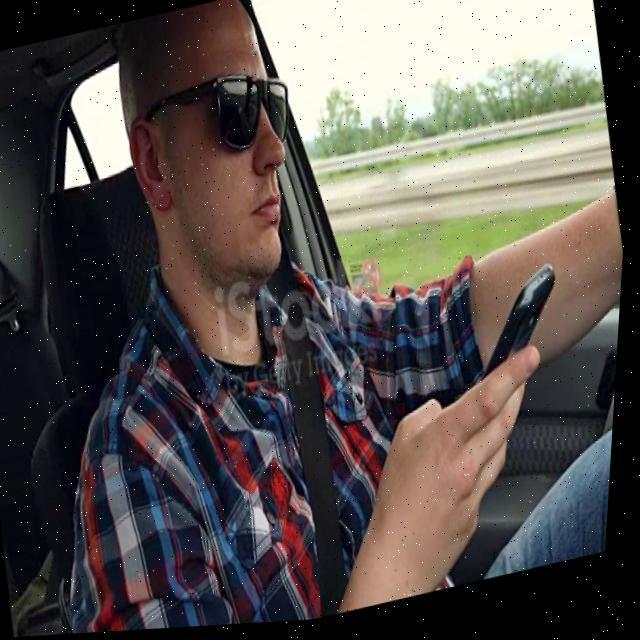PhoneCall: (458, 265, 578, 410)
